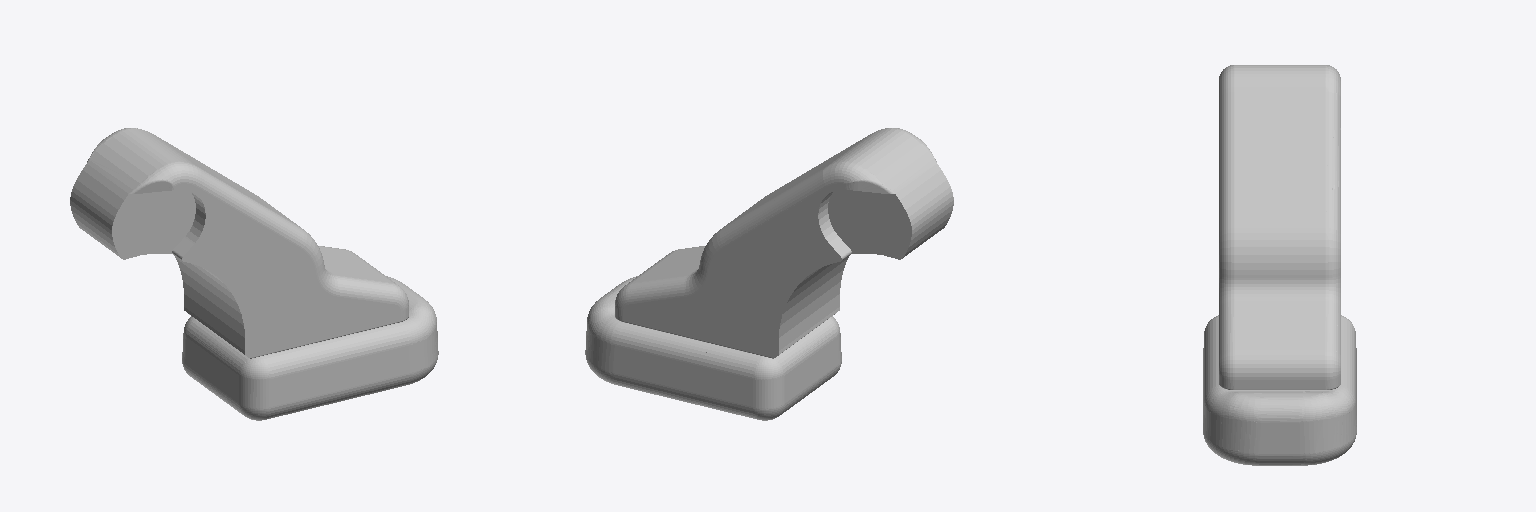
The model's file is finger_tip_H_UV_100430.obj.
The picture shows the model from 3 angles: view 1: azimuth 30°, elevation 25°; view 2: azimuth 150°, elevation 25°; view 3: azimuth 270°, elevation 25°; orthographic projection.
Visible parts, largest first — view 1: finger_tip_H_mod_finger_tip_H_modShape; view 2: finger_tip_H_mod_finger_tip_H_modShape; view 3: finger_tip_H_mod_finger_tip_H_modShape.
Boxes of the visible parts, box(x1,y1,x2,y2) form: finger_tip_H_mod_finger_tip_H_modShape: box(70, 128, 438, 420); finger_tip_H_mod_finger_tip_H_modShape: box(585, 128, 953, 420); finger_tip_H_mod_finger_tip_H_modShape: box(1203, 65, 1356, 465).
Size of the model in its own units: 0.0568 by 0.0448 by 0.023.